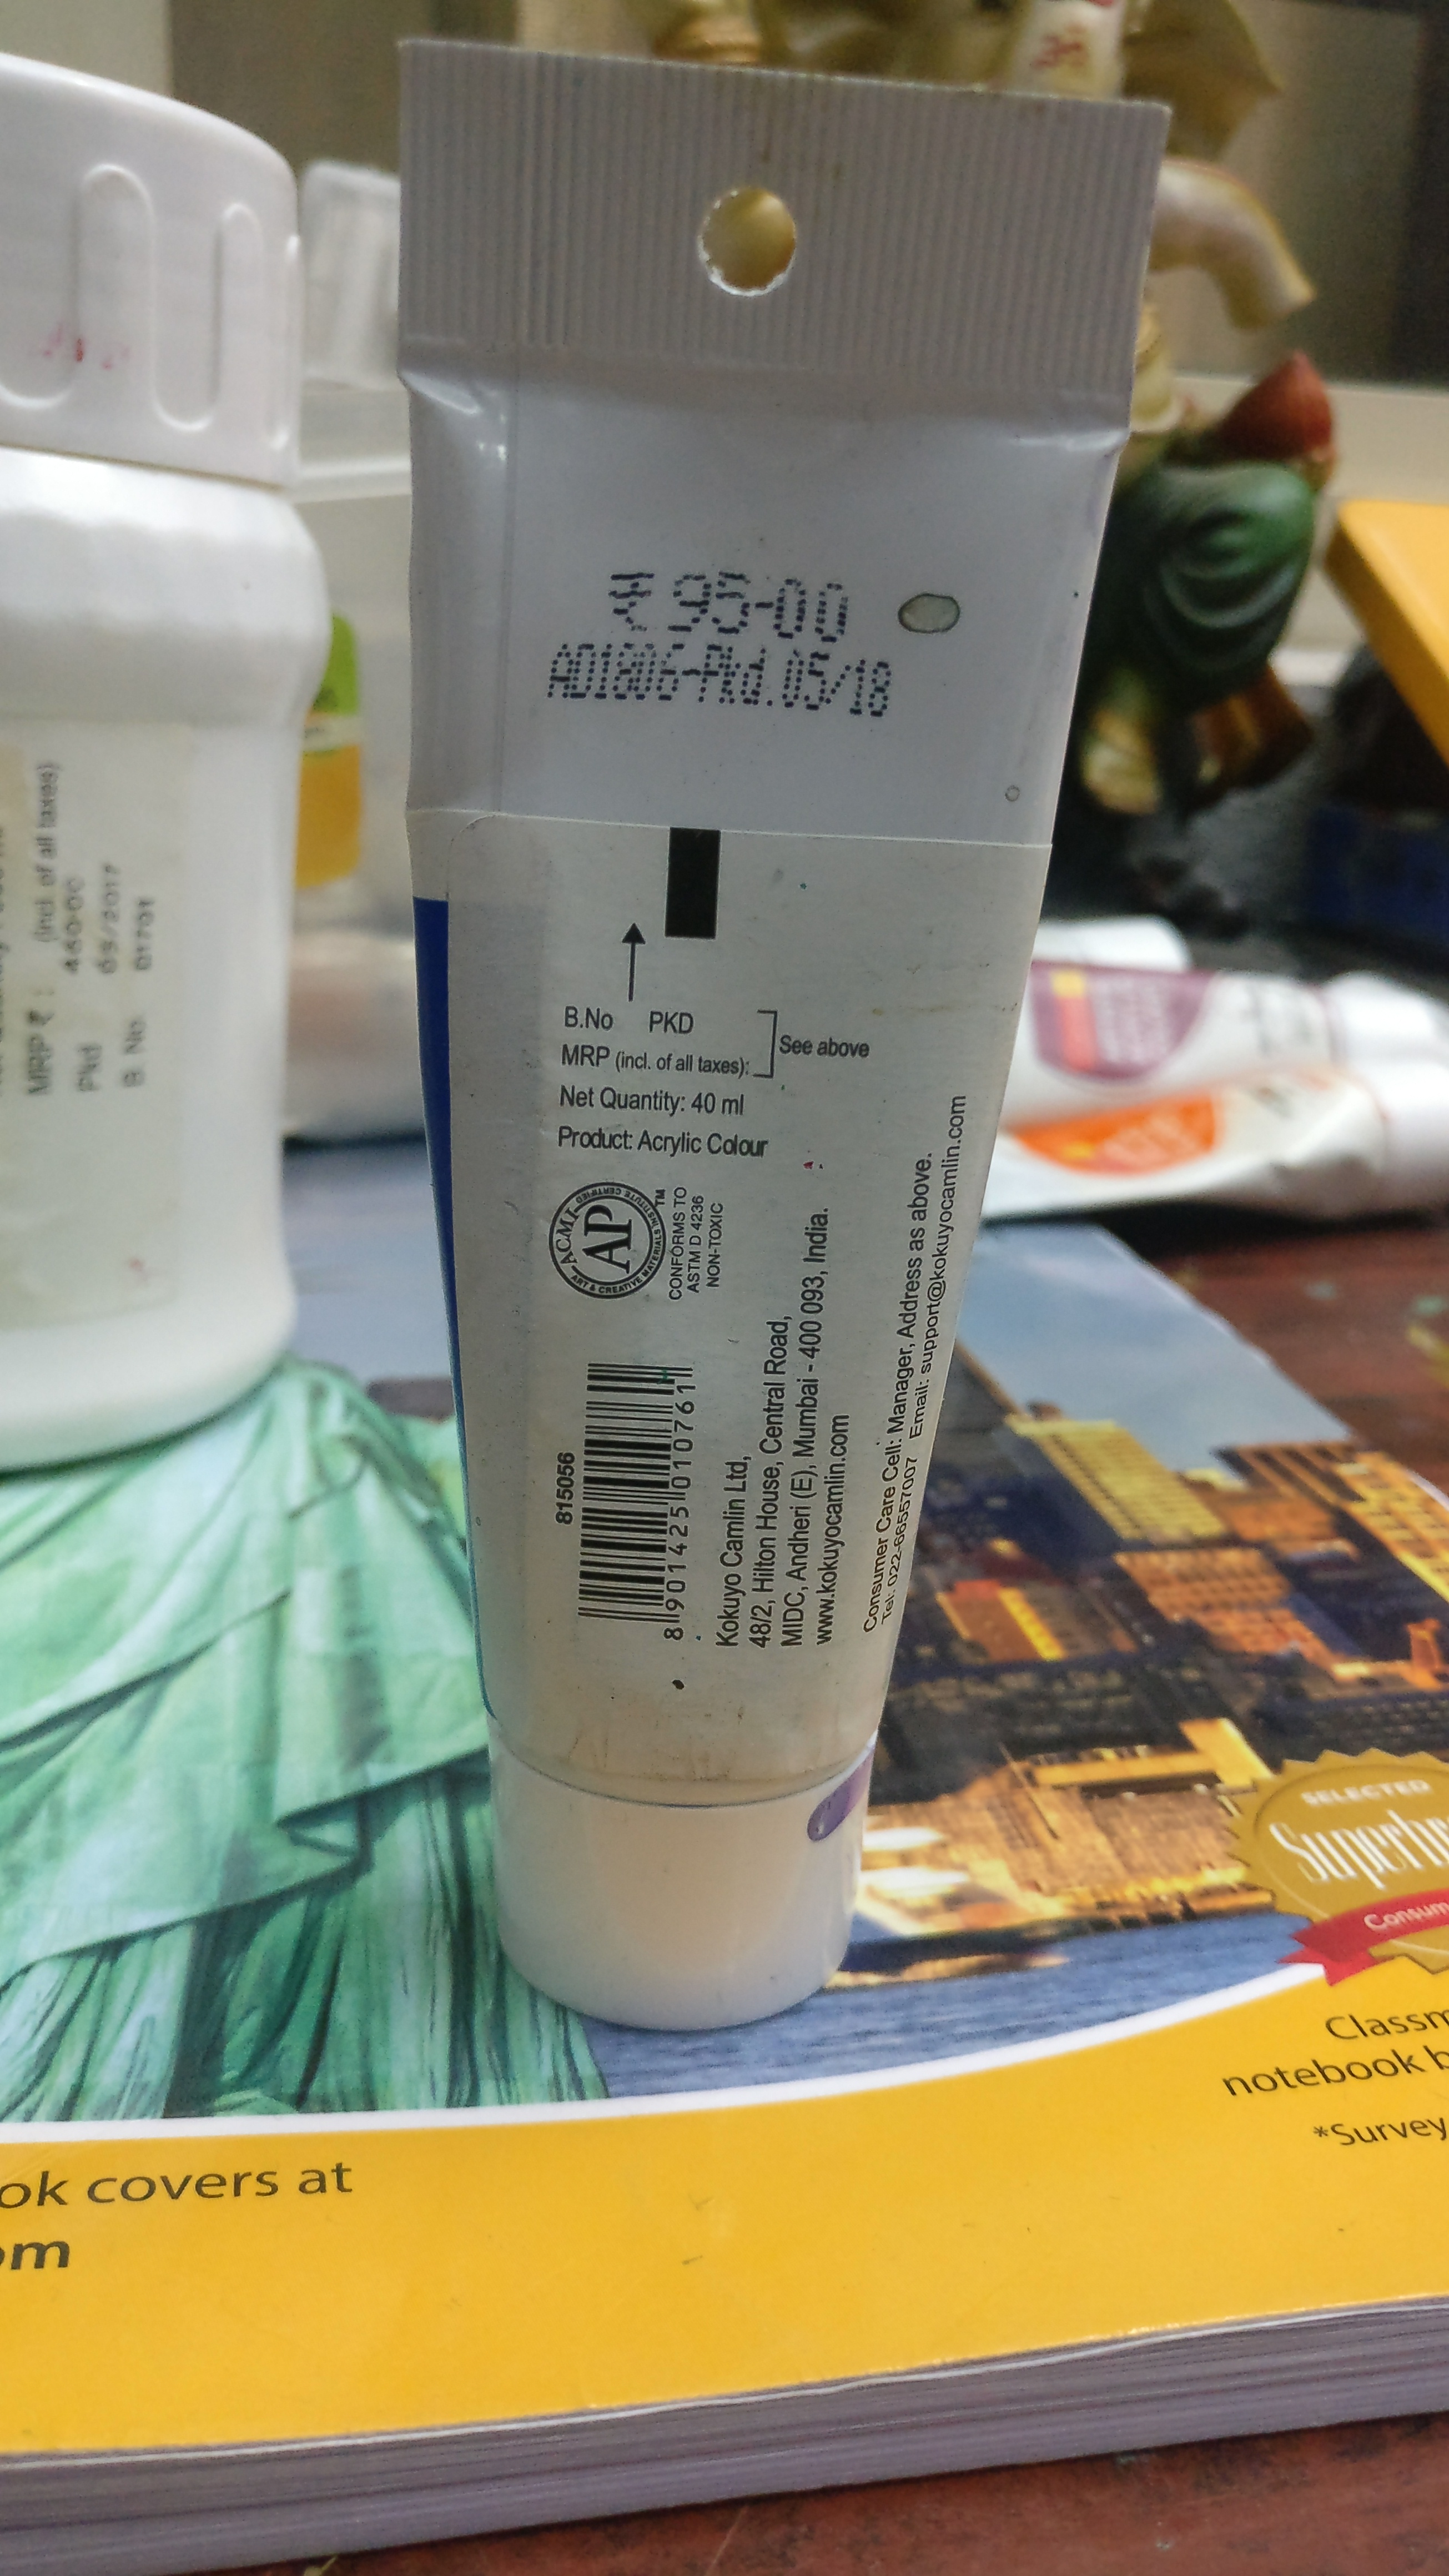barcode: (520, 1322, 704, 1649)
